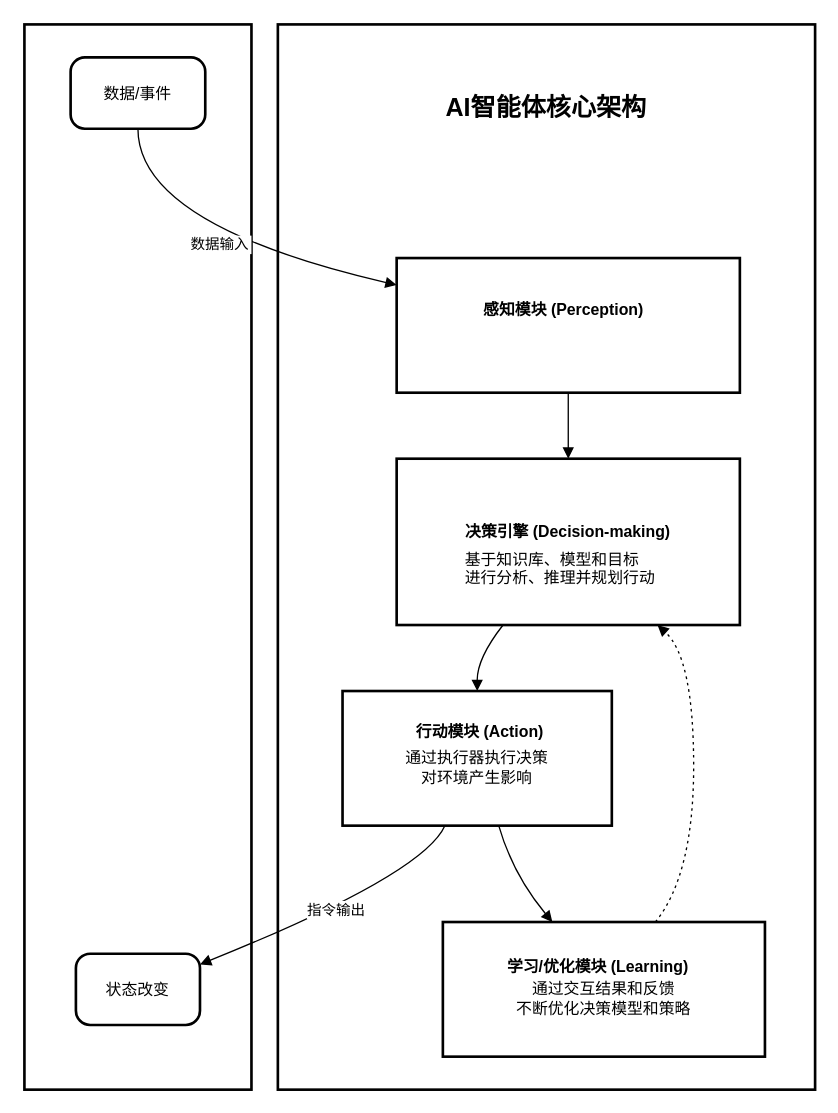
Image size: 838x1113. Some labels were removed from this diagram. The shapes that lost their labels are listed below. From the top down, each one's box as (x1, y1, x2, y2) in pixels, then its label:
(395, 256, 741, 393): 通过传感器/探针收集环境信息
(22, 22, 252, 1090): 外部环境
